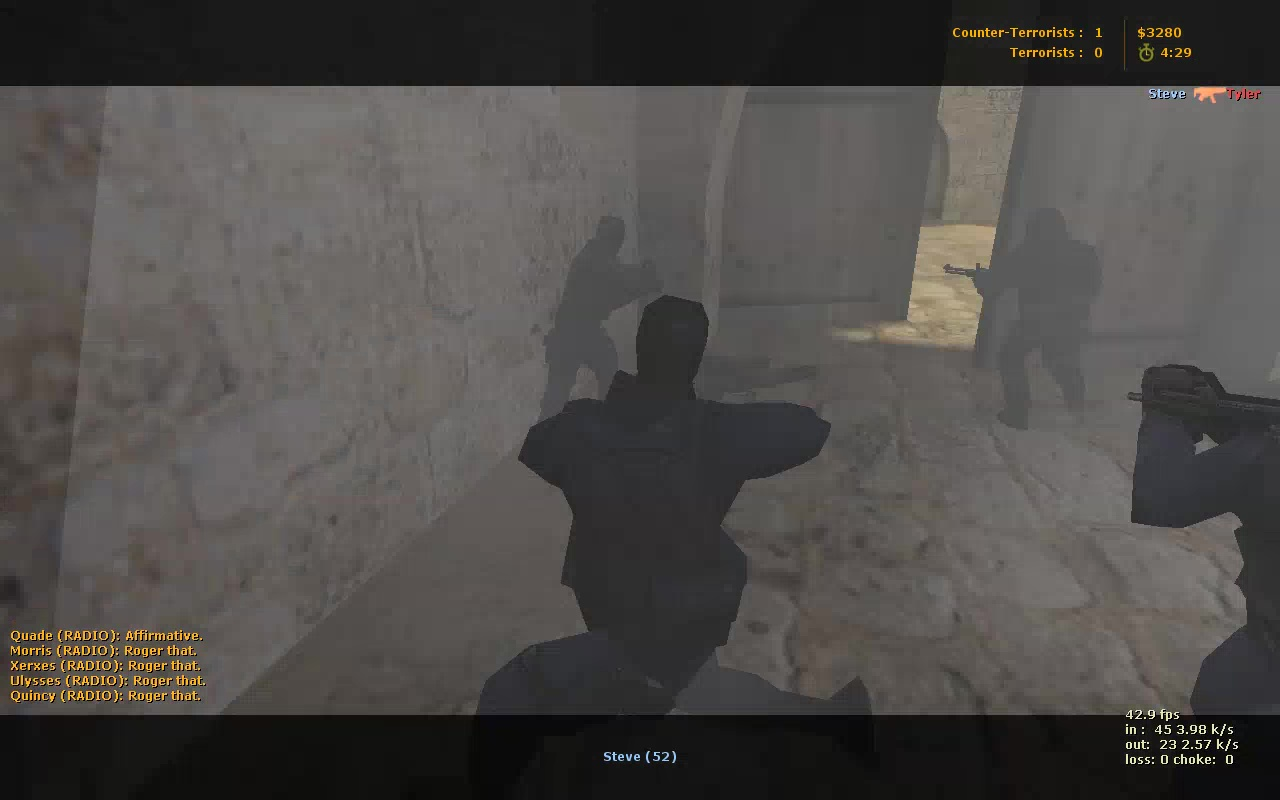ct: (525, 289, 840, 692), (976, 202, 1106, 431), (529, 212, 640, 420)
